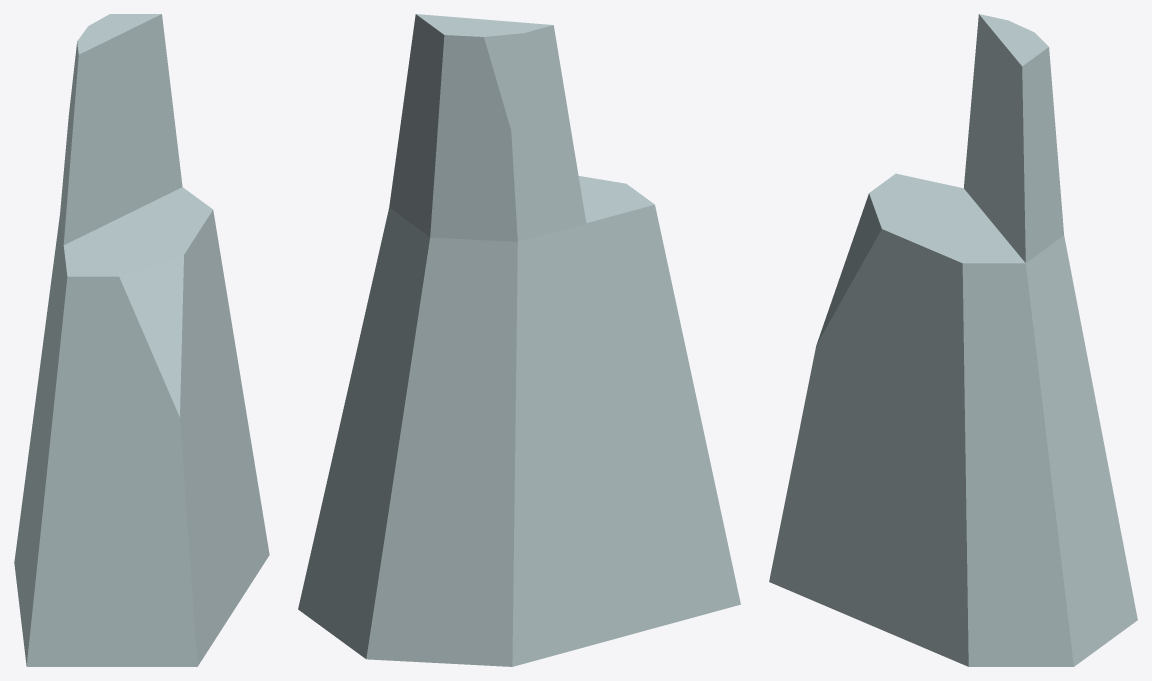
Rendered from stone_tallD.gltf.
3 renders of one model, left to right at view 1: azimuth 30°, elevation 25°; view 2: azimuth 150°, elevation 25°; view 3: azimuth 270°, elevation 25°, orthographic. The views are drawn at different scales.
Parts seen in each view (by area): view 1: stone_tallD; view 2: stone_tallD; view 3: stone_tallD.
Boxes of the visible parts, box(x1,y1,x2,y2) form: stone_tallD: box(14, 14, 269, 666); stone_tallD: box(298, 14, 740, 666); stone_tallD: box(769, 14, 1137, 666).
Bounding box in the file's own units: 0.4428 × 0.7721 × 0.4615.
